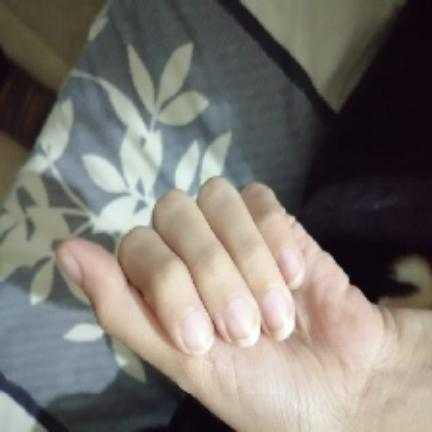Nail: (224, 297, 260, 347), (262, 288, 294, 340), (179, 310, 213, 354), (276, 248, 304, 289), (55, 249, 82, 283)
